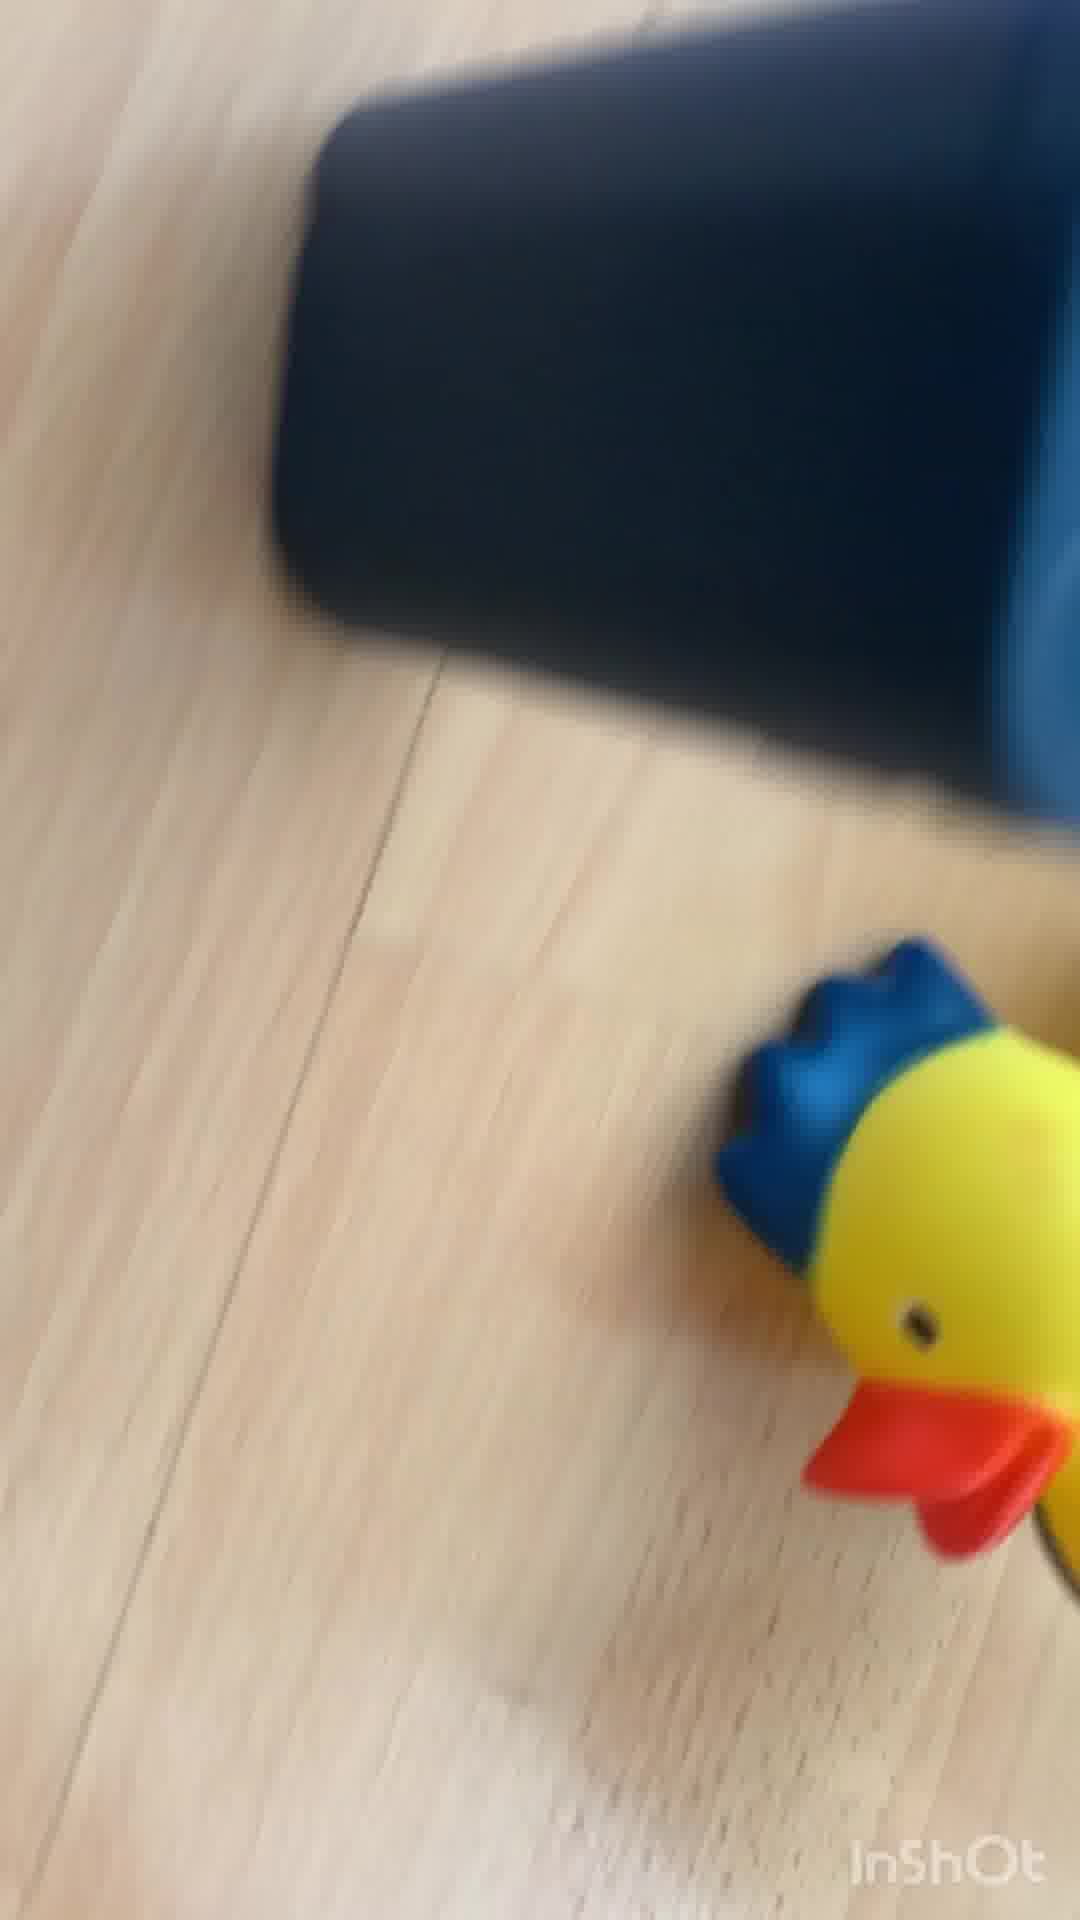duck: (717, 942, 1080, 1675)
glo: (269, 1, 1080, 858)
